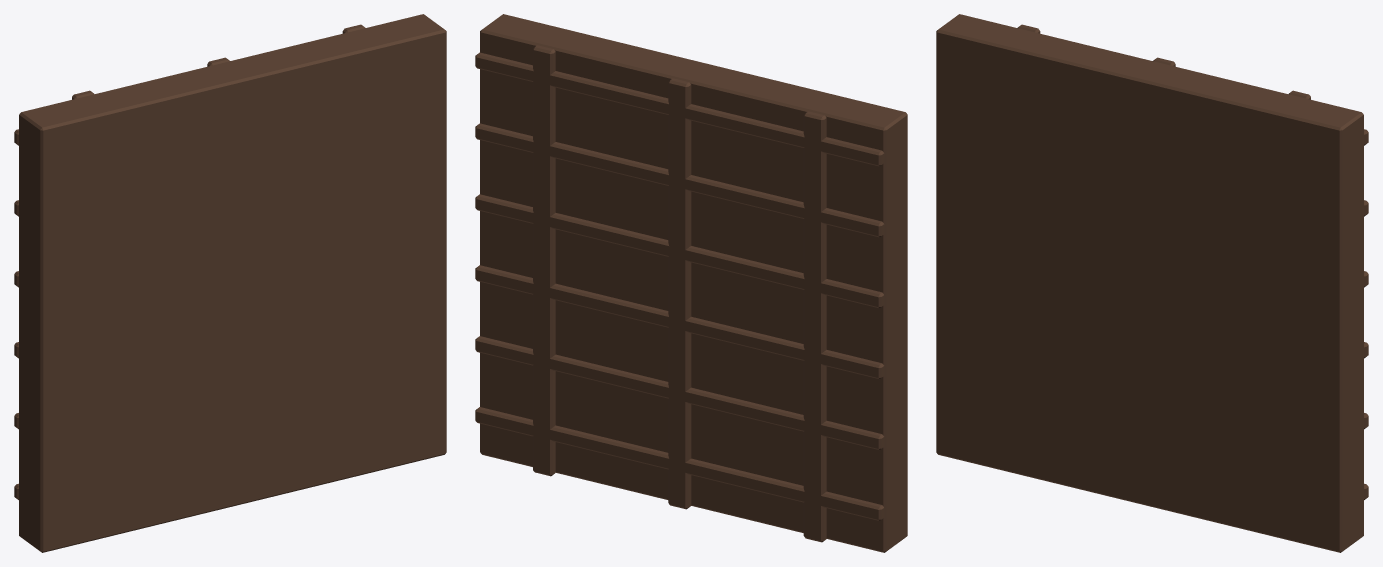
File: sluice_gate.fbx
3 views of the same model, side by side, from view 1: azimuth 30°, elevation 25°; view 2: azimuth 150°, elevation 25°; view 3: azimuth 330°, elevation 25° (orthographic).
Parts seen in each view (by area): view 1: sluice_gate; view 2: sluice_gate; view 3: sluice_gate.
Part boxes in pixels (x1,y1,x2,y2): sluice_gate: (14,14,446,552); sluice_gate: (475,14,907,552); sluice_gate: (936,14,1368,552).
Size of the model in its own units: 1200 by 1200 by 145.
